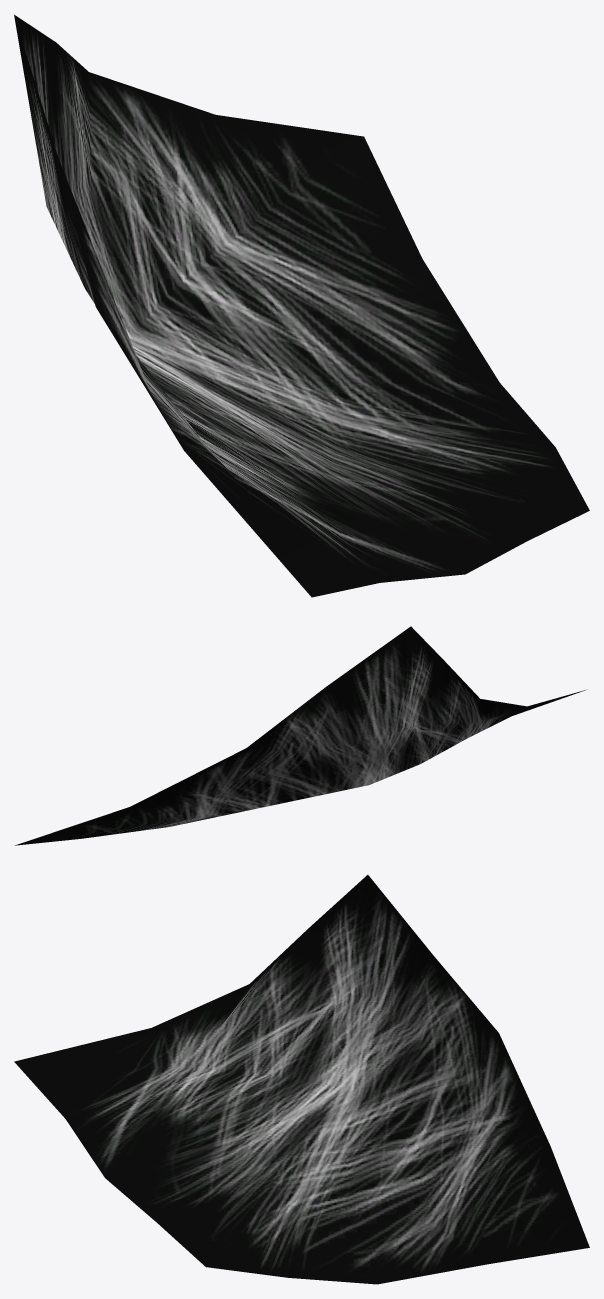
Rendered from SWORDLIGHT20_PS-AREA01_CORNERWEB11.fbx.
3 views of the same model, one above another, from view 1: azimuth 30°, elevation 25°; view 2: azimuth 150°, elevation 25°; view 3: azimuth 270°, elevation 25° (orthographic). The views are drawn at different scales.
Visible parts, largest first — view 1: SWORDLIGHT20_PS-AREA01_CORNERWEB11; view 2: SWORDLIGHT20_PS-AREA01_CORNERWEB11; view 3: SWORDLIGHT20_PS-AREA01_CORNERWEB11.
Boxes of the visible parts, x1,y1,x2,y2 form: SWORDLIGHT20_PS-AREA01_CORNERWEB11: (14, 14, 589, 597); SWORDLIGHT20_PS-AREA01_CORNERWEB11: (15, 626, 586, 845); SWORDLIGHT20_PS-AREA01_CORNERWEB11: (14, 875, 589, 1284).
Bounding box in the file's own units: 58006 × 47780 × 90477.
Materials: 1 (1 with a texture image).
